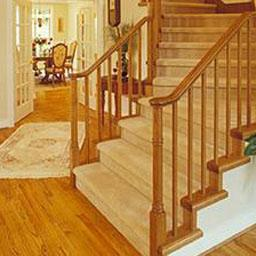Escaleras: (72, 8, 253, 224)
